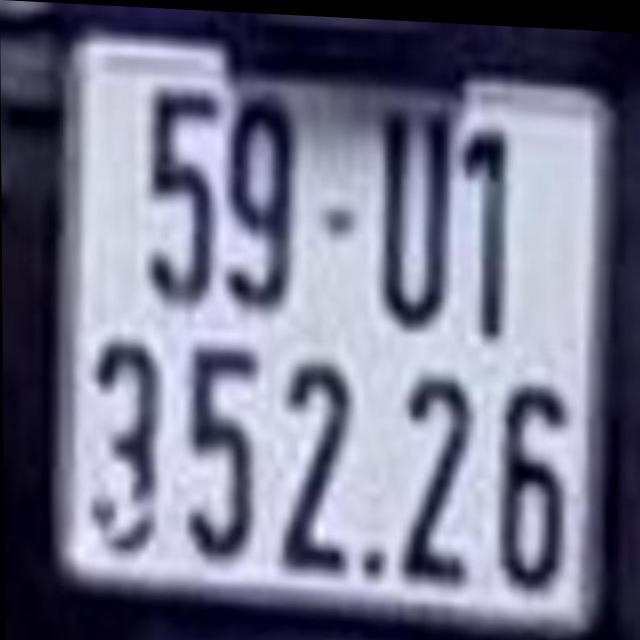1: (460, 119, 511, 327)
2: (278, 353, 348, 579), (401, 375, 472, 574)
3: (92, 338, 151, 561)
5: (183, 341, 249, 552), (154, 89, 211, 304)
6: (496, 378, 577, 589)
9: (227, 94, 300, 320)
U: (379, 103, 454, 325)
